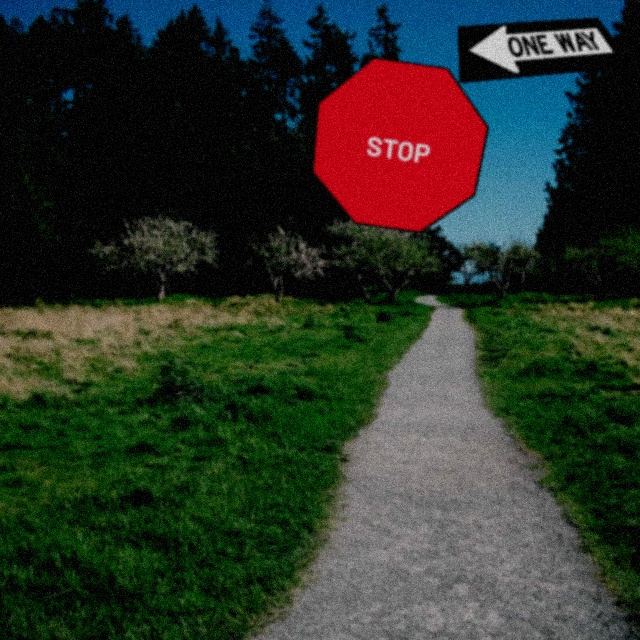ONE_WAY_ left: (457, 17, 634, 83)
STOP: (312, 57, 489, 233)
